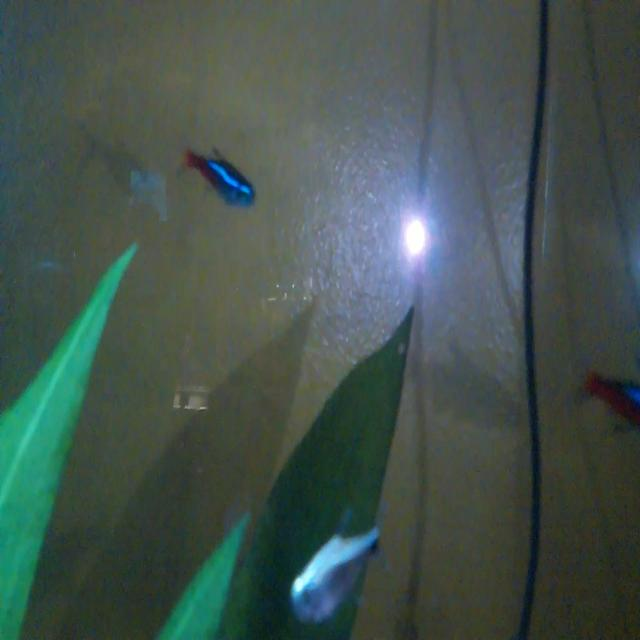fish: (274, 522, 388, 628), (179, 133, 262, 220)
